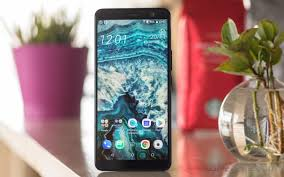htc: (93, 1, 172, 172)
